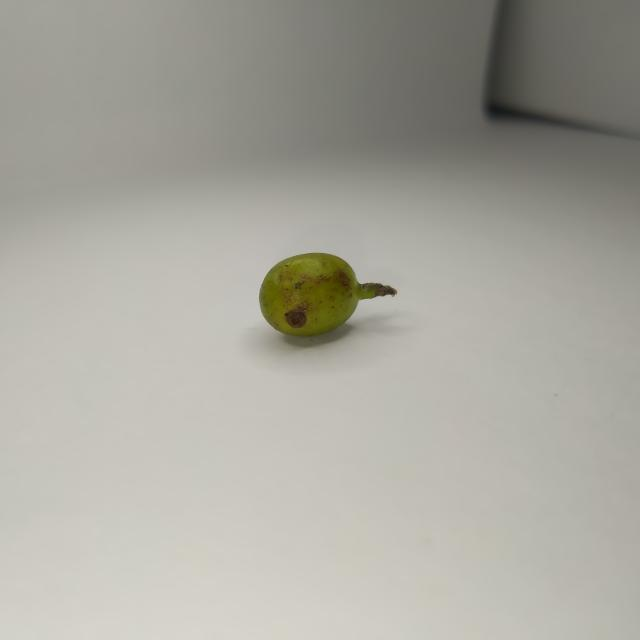Infectado: (259, 252, 396, 337)
